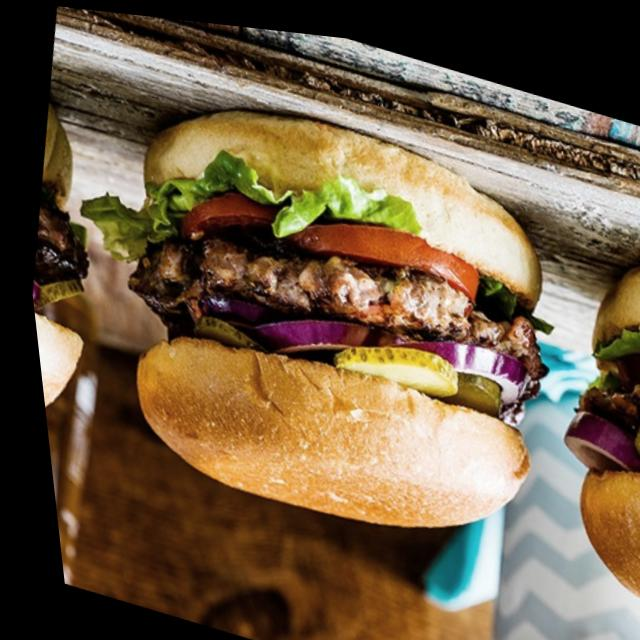burger: (70, 66, 583, 573), (513, 192, 640, 603), (6, 67, 139, 458)
